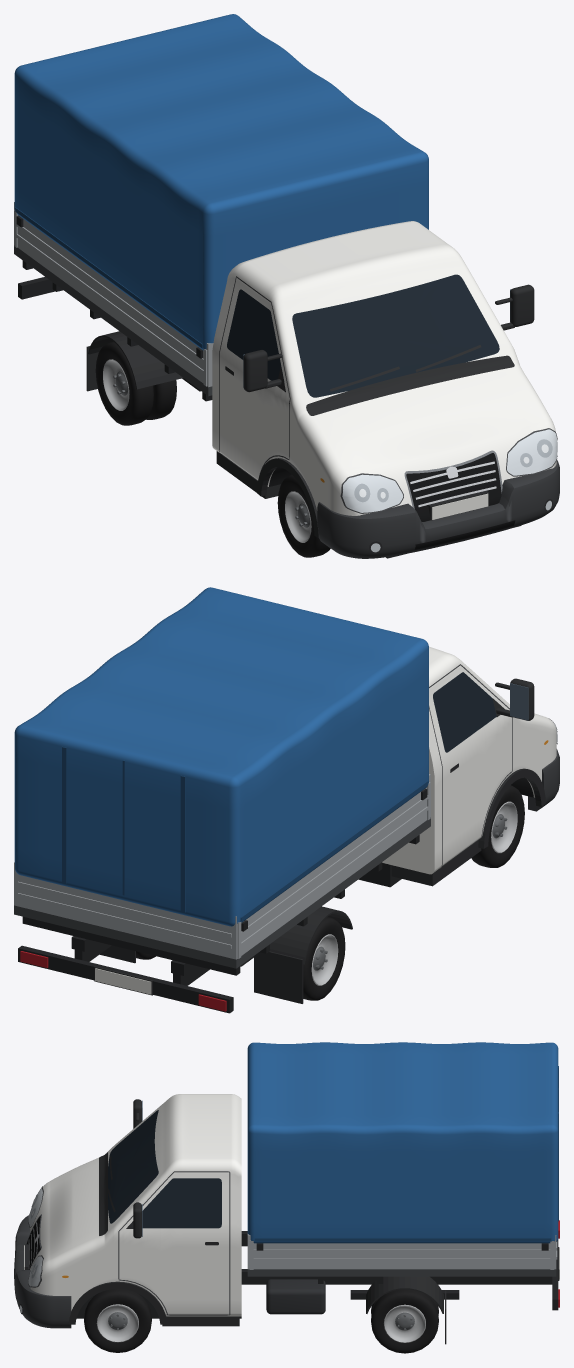
Rendered from gazel.glb.
3 renders of one model, top to bottom at view 1: azimuth 30°, elevation 25°; view 2: azimuth 150°, elevation 25°; view 3: azimuth 270°, elevation 25°, orthographic. The views are drawn at different scales.
Visible parts, largest first — view 1: gazel; view 2: gazel; view 3: gazel.
Boxes of the visible parts, bbox=[...] form: gazel: bbox=[14, 14, 559, 558]; gazel: bbox=[14, 587, 559, 1013]; gazel: bbox=[14, 1042, 559, 1353].
Bounding box in the file's own units: 2.67 × 2.57 × 5.52.
